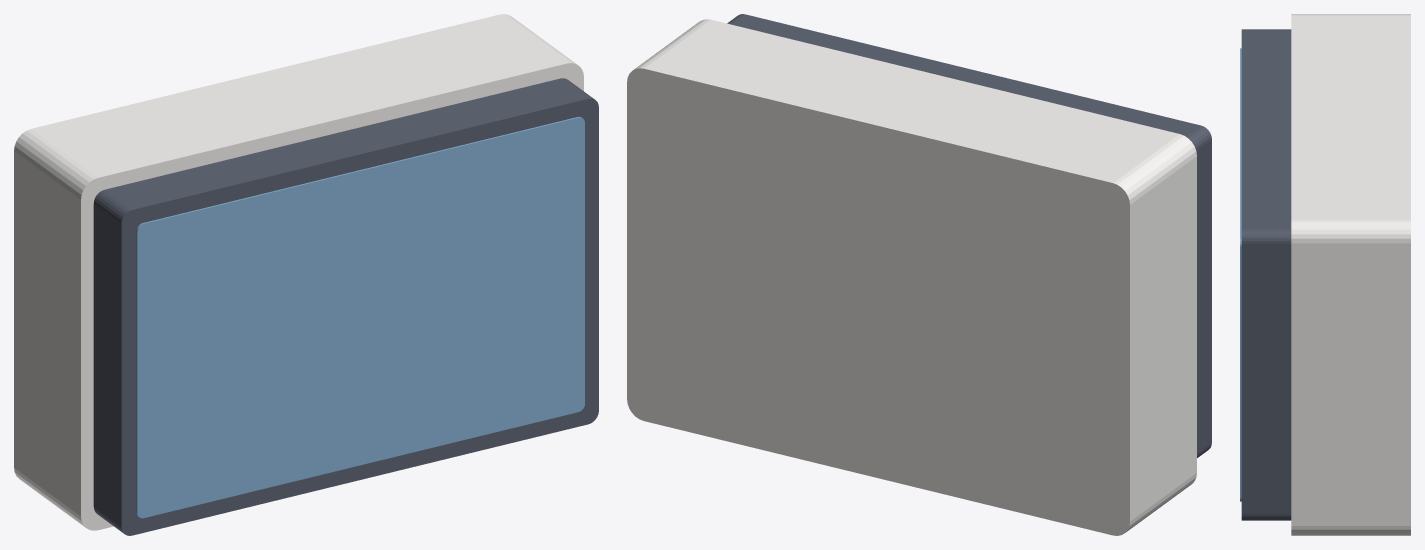
Rendered from device.canary-display-dash.glb.
3 views of the same model, side by side, from view 1: azimuth 30°, elevation 25°; view 2: azimuth 150°, elevation 25°; view 3: azimuth 270°, elevation 25° (orthographic). The views are drawn at different scales.
Size of the model in its own units: 0.118 by 0.079 by 0.0389.
